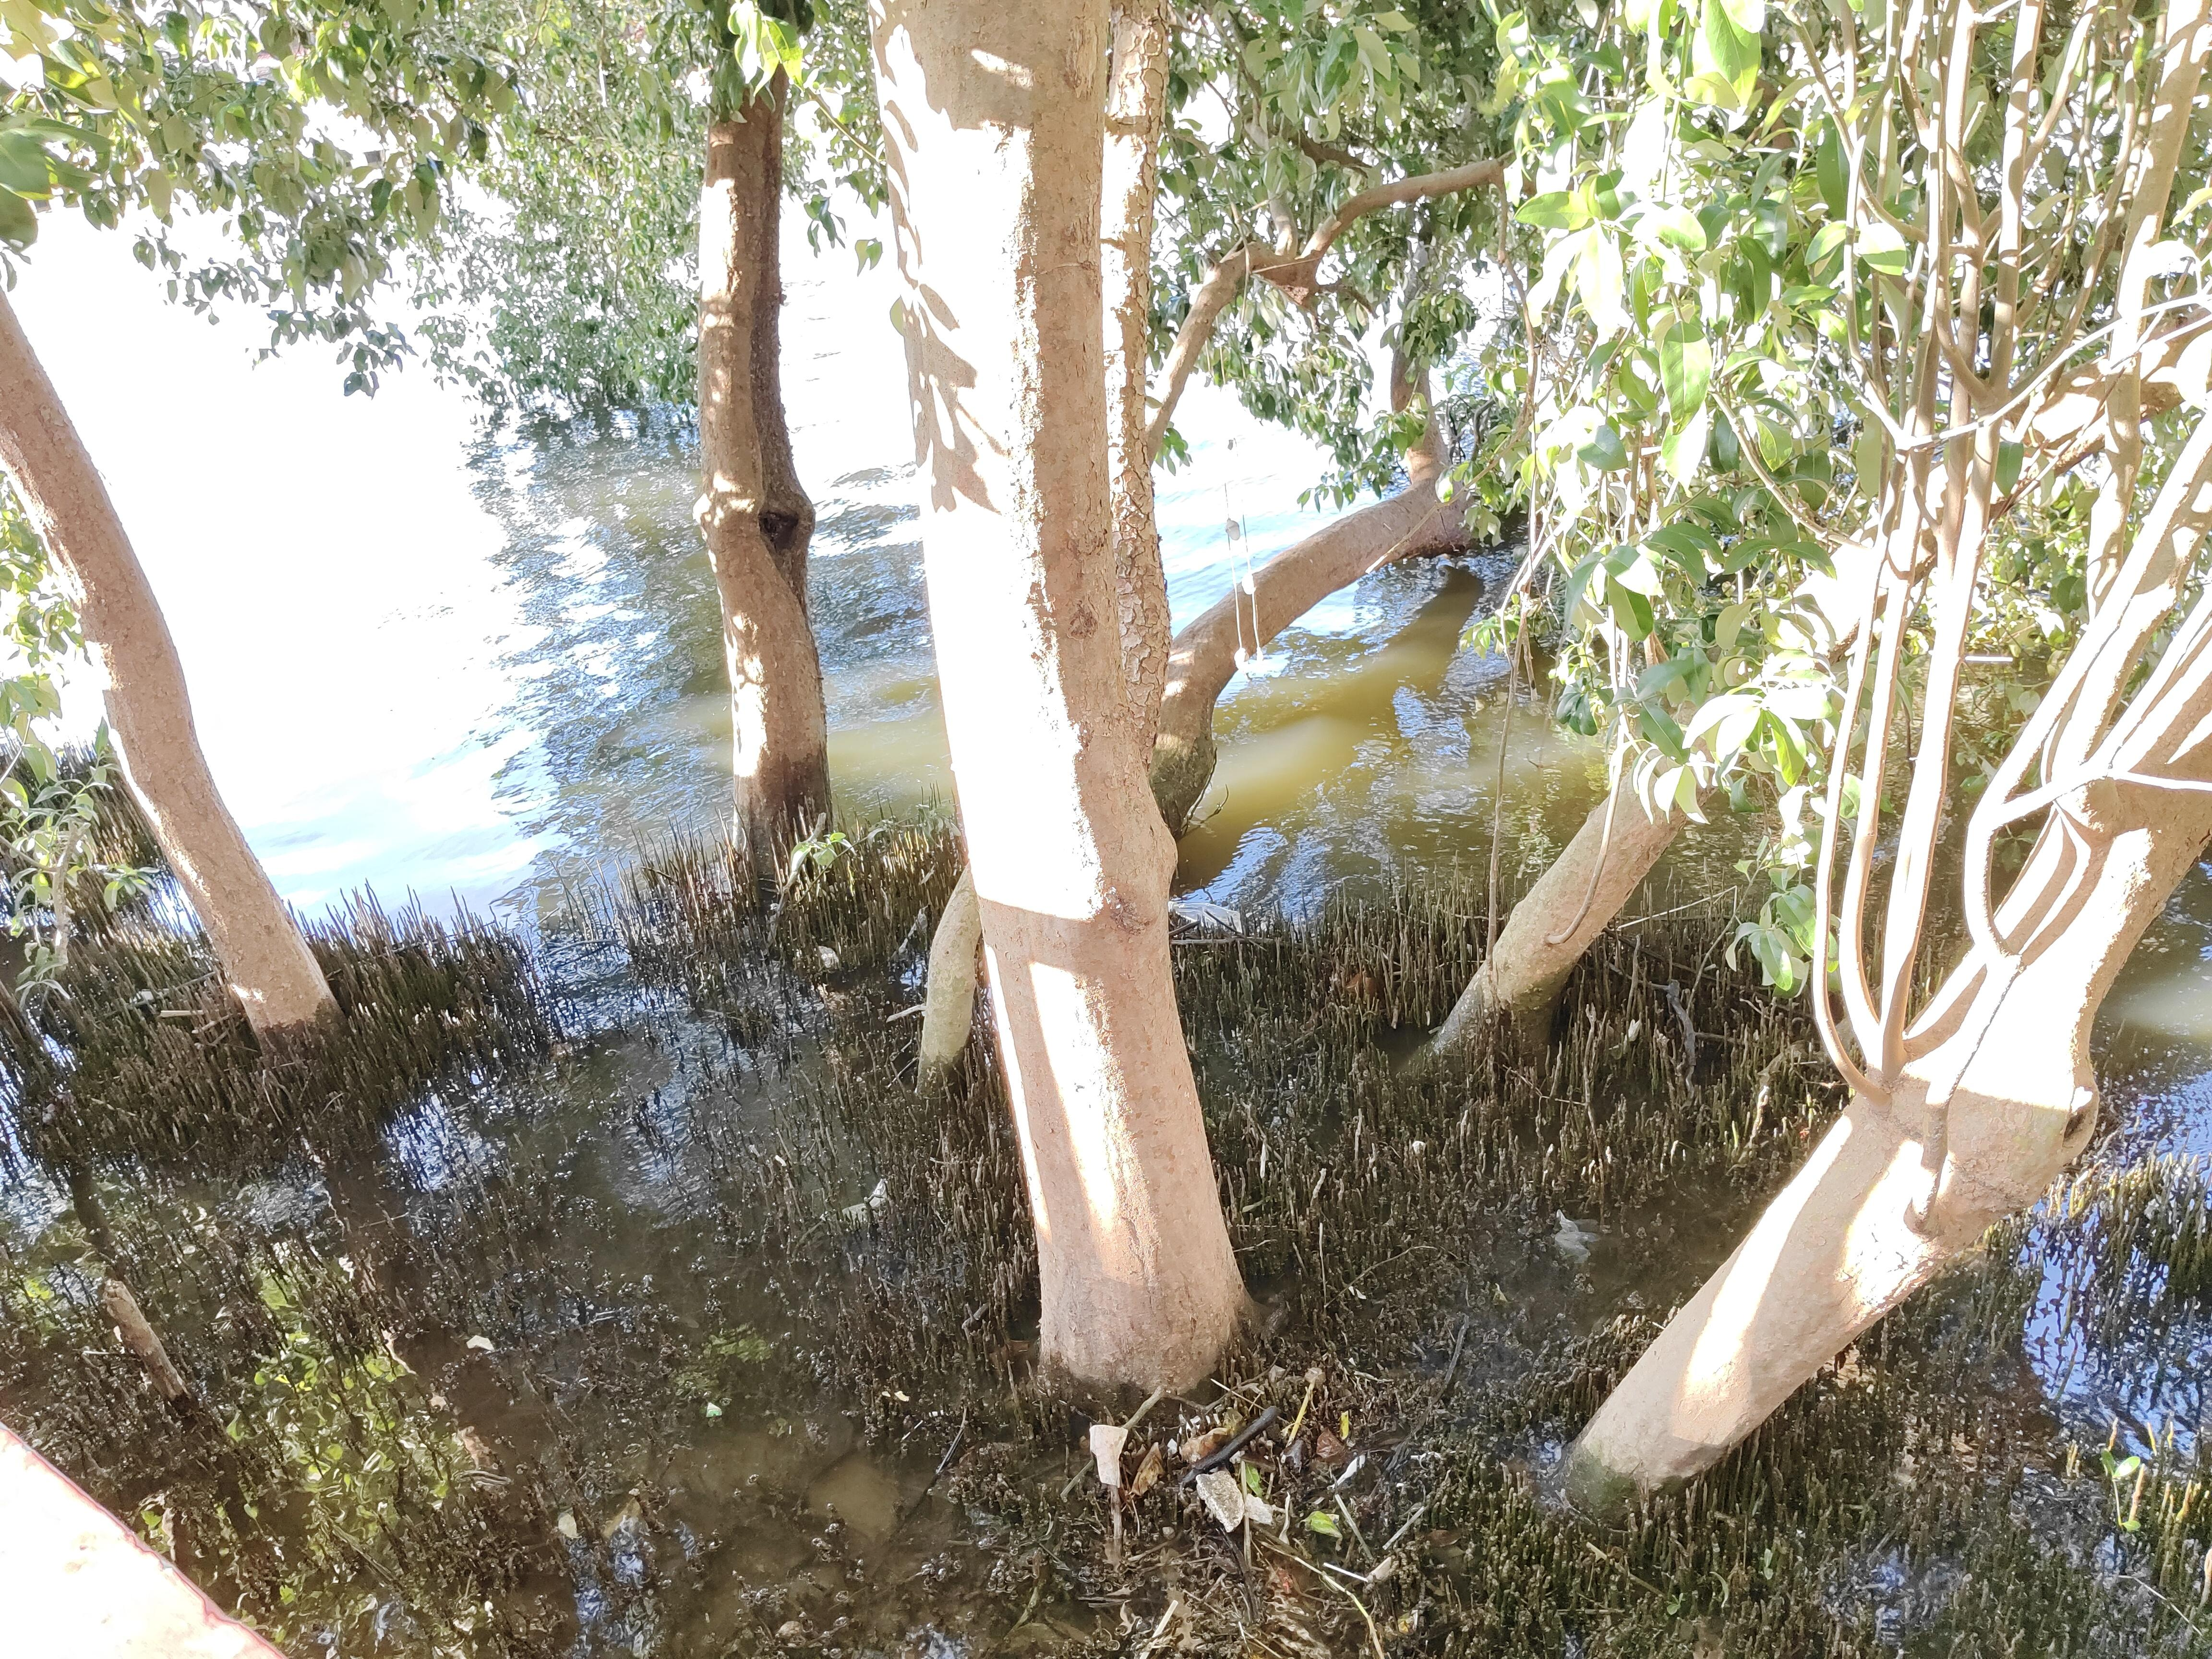Mangrove_Trunk: (1580, 565, 2212, 1478), (869, 3, 1238, 1382), (1402, 364, 2036, 1047), (0, 303, 378, 1053), (671, 80, 846, 852), (1181, 476, 1538, 826)
